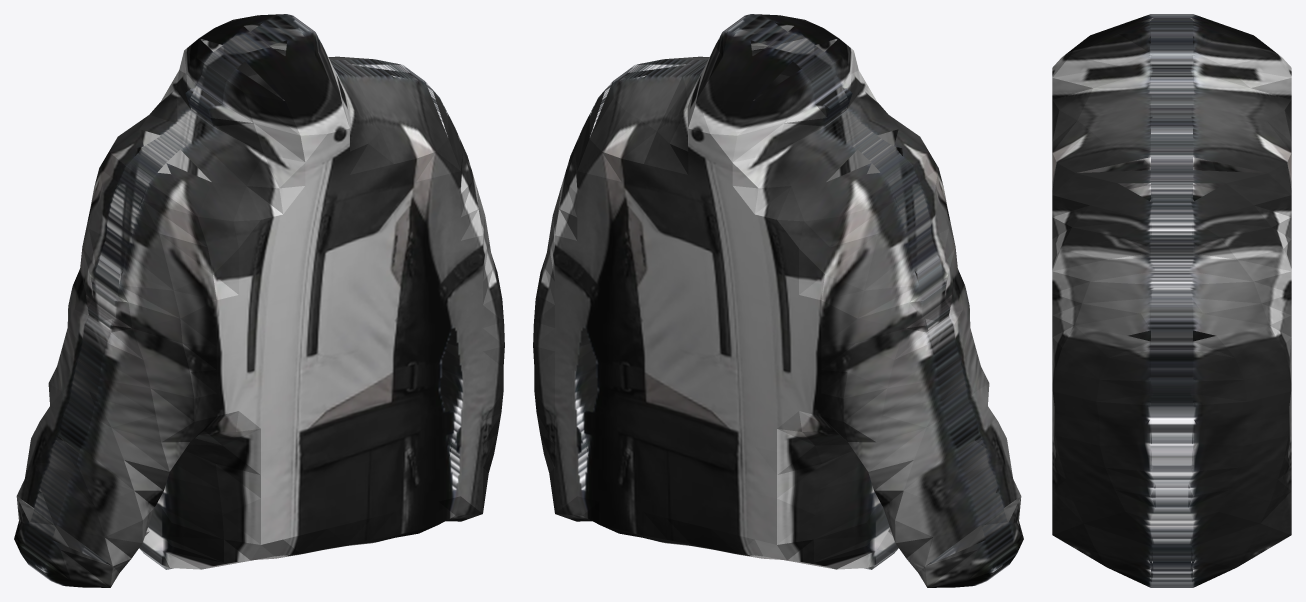
File: arai-horizon-adventure-jacket-030.glb
The picture shows the model from 3 angles, left to right: view 1: azimuth 30°, elevation 25°; view 2: azimuth 150°, elevation 25°; view 3: azimuth 270°, elevation 25°; orthographic projection. The views are drawn at different scales.
Visible parts, largest first — view 1: world; view 2: world; view 3: world.
Part boxes in pixels (x1,y1,x2,y2): world: (14, 14, 504, 587); world: (533, 14, 1023, 587); world: (1052, 14, 1291, 587).
Size of the model in its own units: 0.9048 by 1 by 0.44.
Materials: 1 (1 with a texture image).
